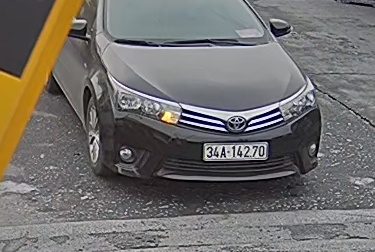vehicle plate: (201, 139, 270, 162)
